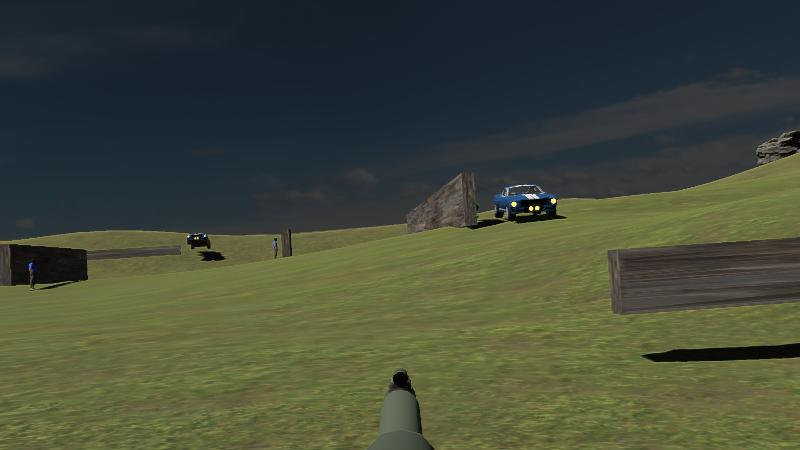car: (493, 182, 558, 222)
